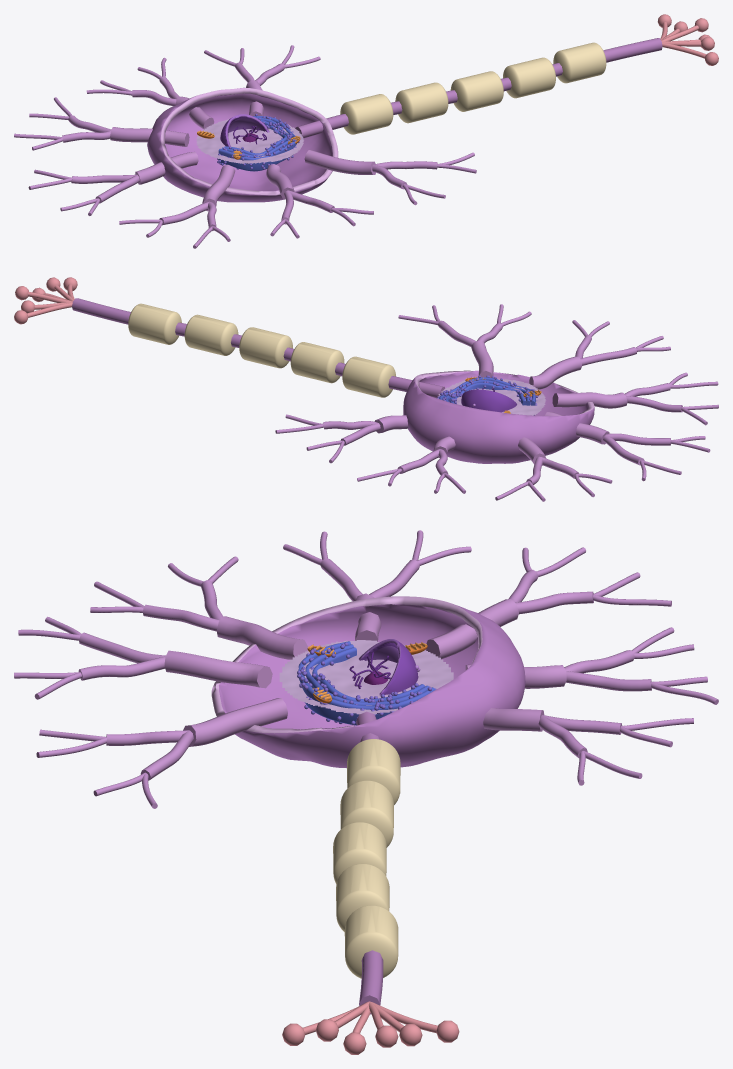
Rendered from neuron.glb.
3 views of the same model, one above another, from view 1: azimuth 30°, elevation 25°; view 2: azimuth 150°, elevation 25°; view 3: azimuth 270°, elevation 25° (orthographic). The views are drawn at different scales.
Parts seen in each view (by area): view 1: membrane, myelin, dendrites_branches, dendrites, dendrites_twigs, soma, axon, rough-er, terminals, terminals_bulbs, rough-er_ribosomes, nucleus; view 2: membrane, myelin, dendrites_branches, dendrites, dendrites_twigs, axon, soma, nucleus, rough-er, terminals_bulbs, terminals, rough-er_ribosomes; view 3: membrane, myelin, dendrites_branches, dendrites, dendrites_twigs, soma, rough-er, terminals_bulbs, terminals, axon, rough-er_ribosomes, nucleus.
Part boxes in pixels (left/top/right/bottom): membrane: left=147, top=87, right=338, bottom=202; myelin: left=340, top=42, right=606, bottom=134; dendrites_branches: left=62, top=62, right=437, bottom=230; dendrites: left=110, top=80, right=375, bottom=211; dendrites_twigs: left=14, top=45, right=476, bottom=248; soma: left=196, top=119, right=303, bottom=163; axon: left=295, top=38, right=662, bottom=137; rough-er: left=218, top=116, right=296, bottom=171; terminals: left=660, top=22, right=706, bottom=58; terminals_bulbs: left=657, top=14, right=718, bottom=65; rough-er_ribosomes: left=217, top=114, right=299, bottom=169; nucleus: left=220, top=114, right=269, bottom=146; membrane: left=403, top=370, right=594, bottom=463; myelin: left=128, top=303, right=395, bottom=397; dendrites_branches: left=323, top=320, right=682, bottom=486; dendrites: left=374, top=341, right=627, bottom=465; dendrites_twigs: left=275, top=304, right=718, bottom=501; axon: left=72, top=298, right=444, bottom=397; soma: left=437, top=378, right=545, bottom=415; nucleus: left=461, top=389, right=516, bottom=412; rough-er: left=439, top=377, right=535, bottom=405; terminals_bulbs: left=14, top=277, right=77, bottom=324; terminals: left=27, top=284, right=74, bottom=317; rough-er_ribosomes: left=437, top=375, right=538, bottom=415; membrane: left=211, top=596, right=525, bottom=768; myelin: left=333, top=739, right=400, bottom=978; dendrites_branches: left=78, top=558, right=651, bottom=780; dendrites: left=164, top=593, right=566, bottom=746; dendrites_twigs: left=14, top=530, right=718, bottom=808; soma: left=279, top=640, right=453, bottom=714; rough-er: left=298, top=641, right=435, bottom=725; terminals_bulbs: left=282, top=1019, right=459, bottom=1054; terminals: left=303, top=1001, right=437, bottom=1034; axon: left=356, top=711, right=383, bottom=1014; rough-er_ribosomes: left=297, top=642, right=436, bottom=724; nucleus: left=359, top=639, right=418, bottom=695.
Bounding box in the file's own units: 13.83 × 1.47 × 7.88.
